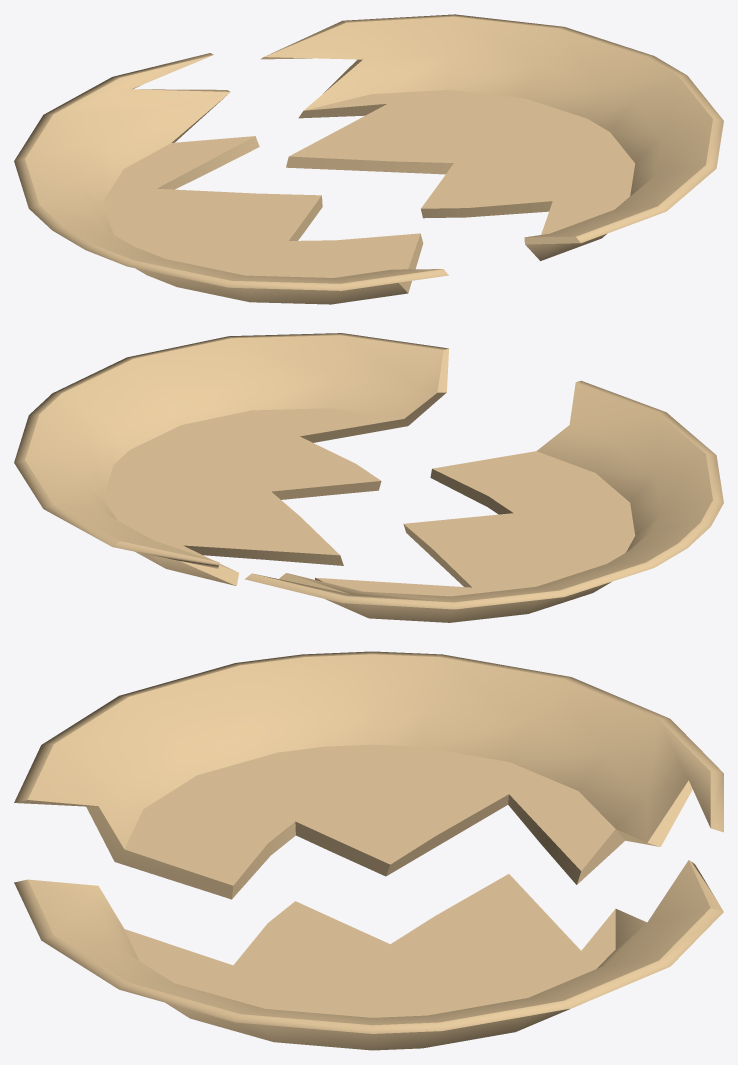
Rendered from platoRoto_Seminario.fbx.
The picture shows the model from 3 angles, top to bottom: view 1: azimuth 30°, elevation 25°; view 2: azimuth 150°, elevation 25°; view 3: azimuth 270°, elevation 25°; orthographic projection. The views are drawn at different scales.
Visible parts, largest first — view 1: Cylinder.005, Cylinder.007; view 2: Cylinder.005, Cylinder.007; view 3: Cylinder.007, Cylinder.005.
Boxes of the visible parts, x1,y1,x2,y2 form: Cylinder.005: (260,14,723,260); Cylinder.007: (14,53,448,304); Cylinder.005: (14,333,448,585); Cylinder.007: (245,380,723,622); Cylinder.007: (14,651,723,899); Cylinder.005: (14,860,723,1050).
Size of the model in its own units: 167 by 12.63 by 131.
